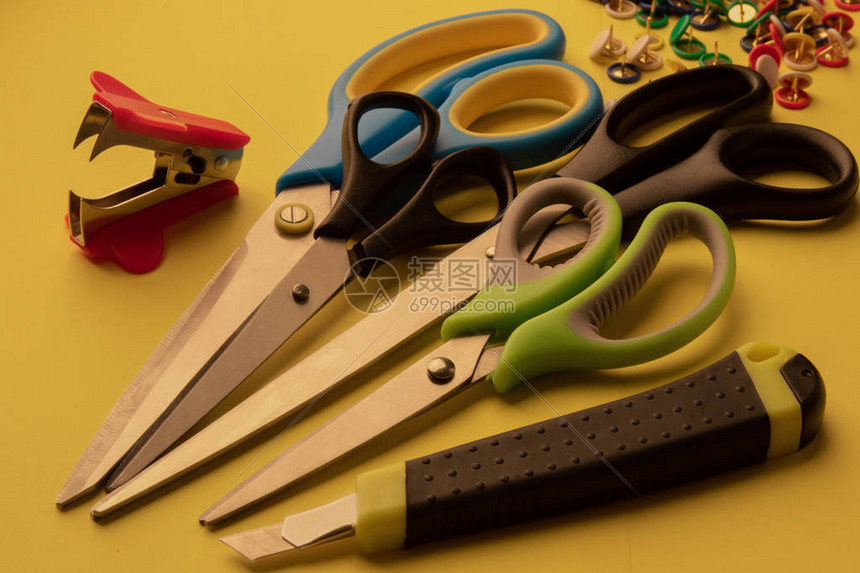cutter: (209, 336, 829, 560)
scissors: (90, 64, 858, 521), (55, 3, 602, 512), (197, 174, 741, 528), (102, 91, 520, 492)
